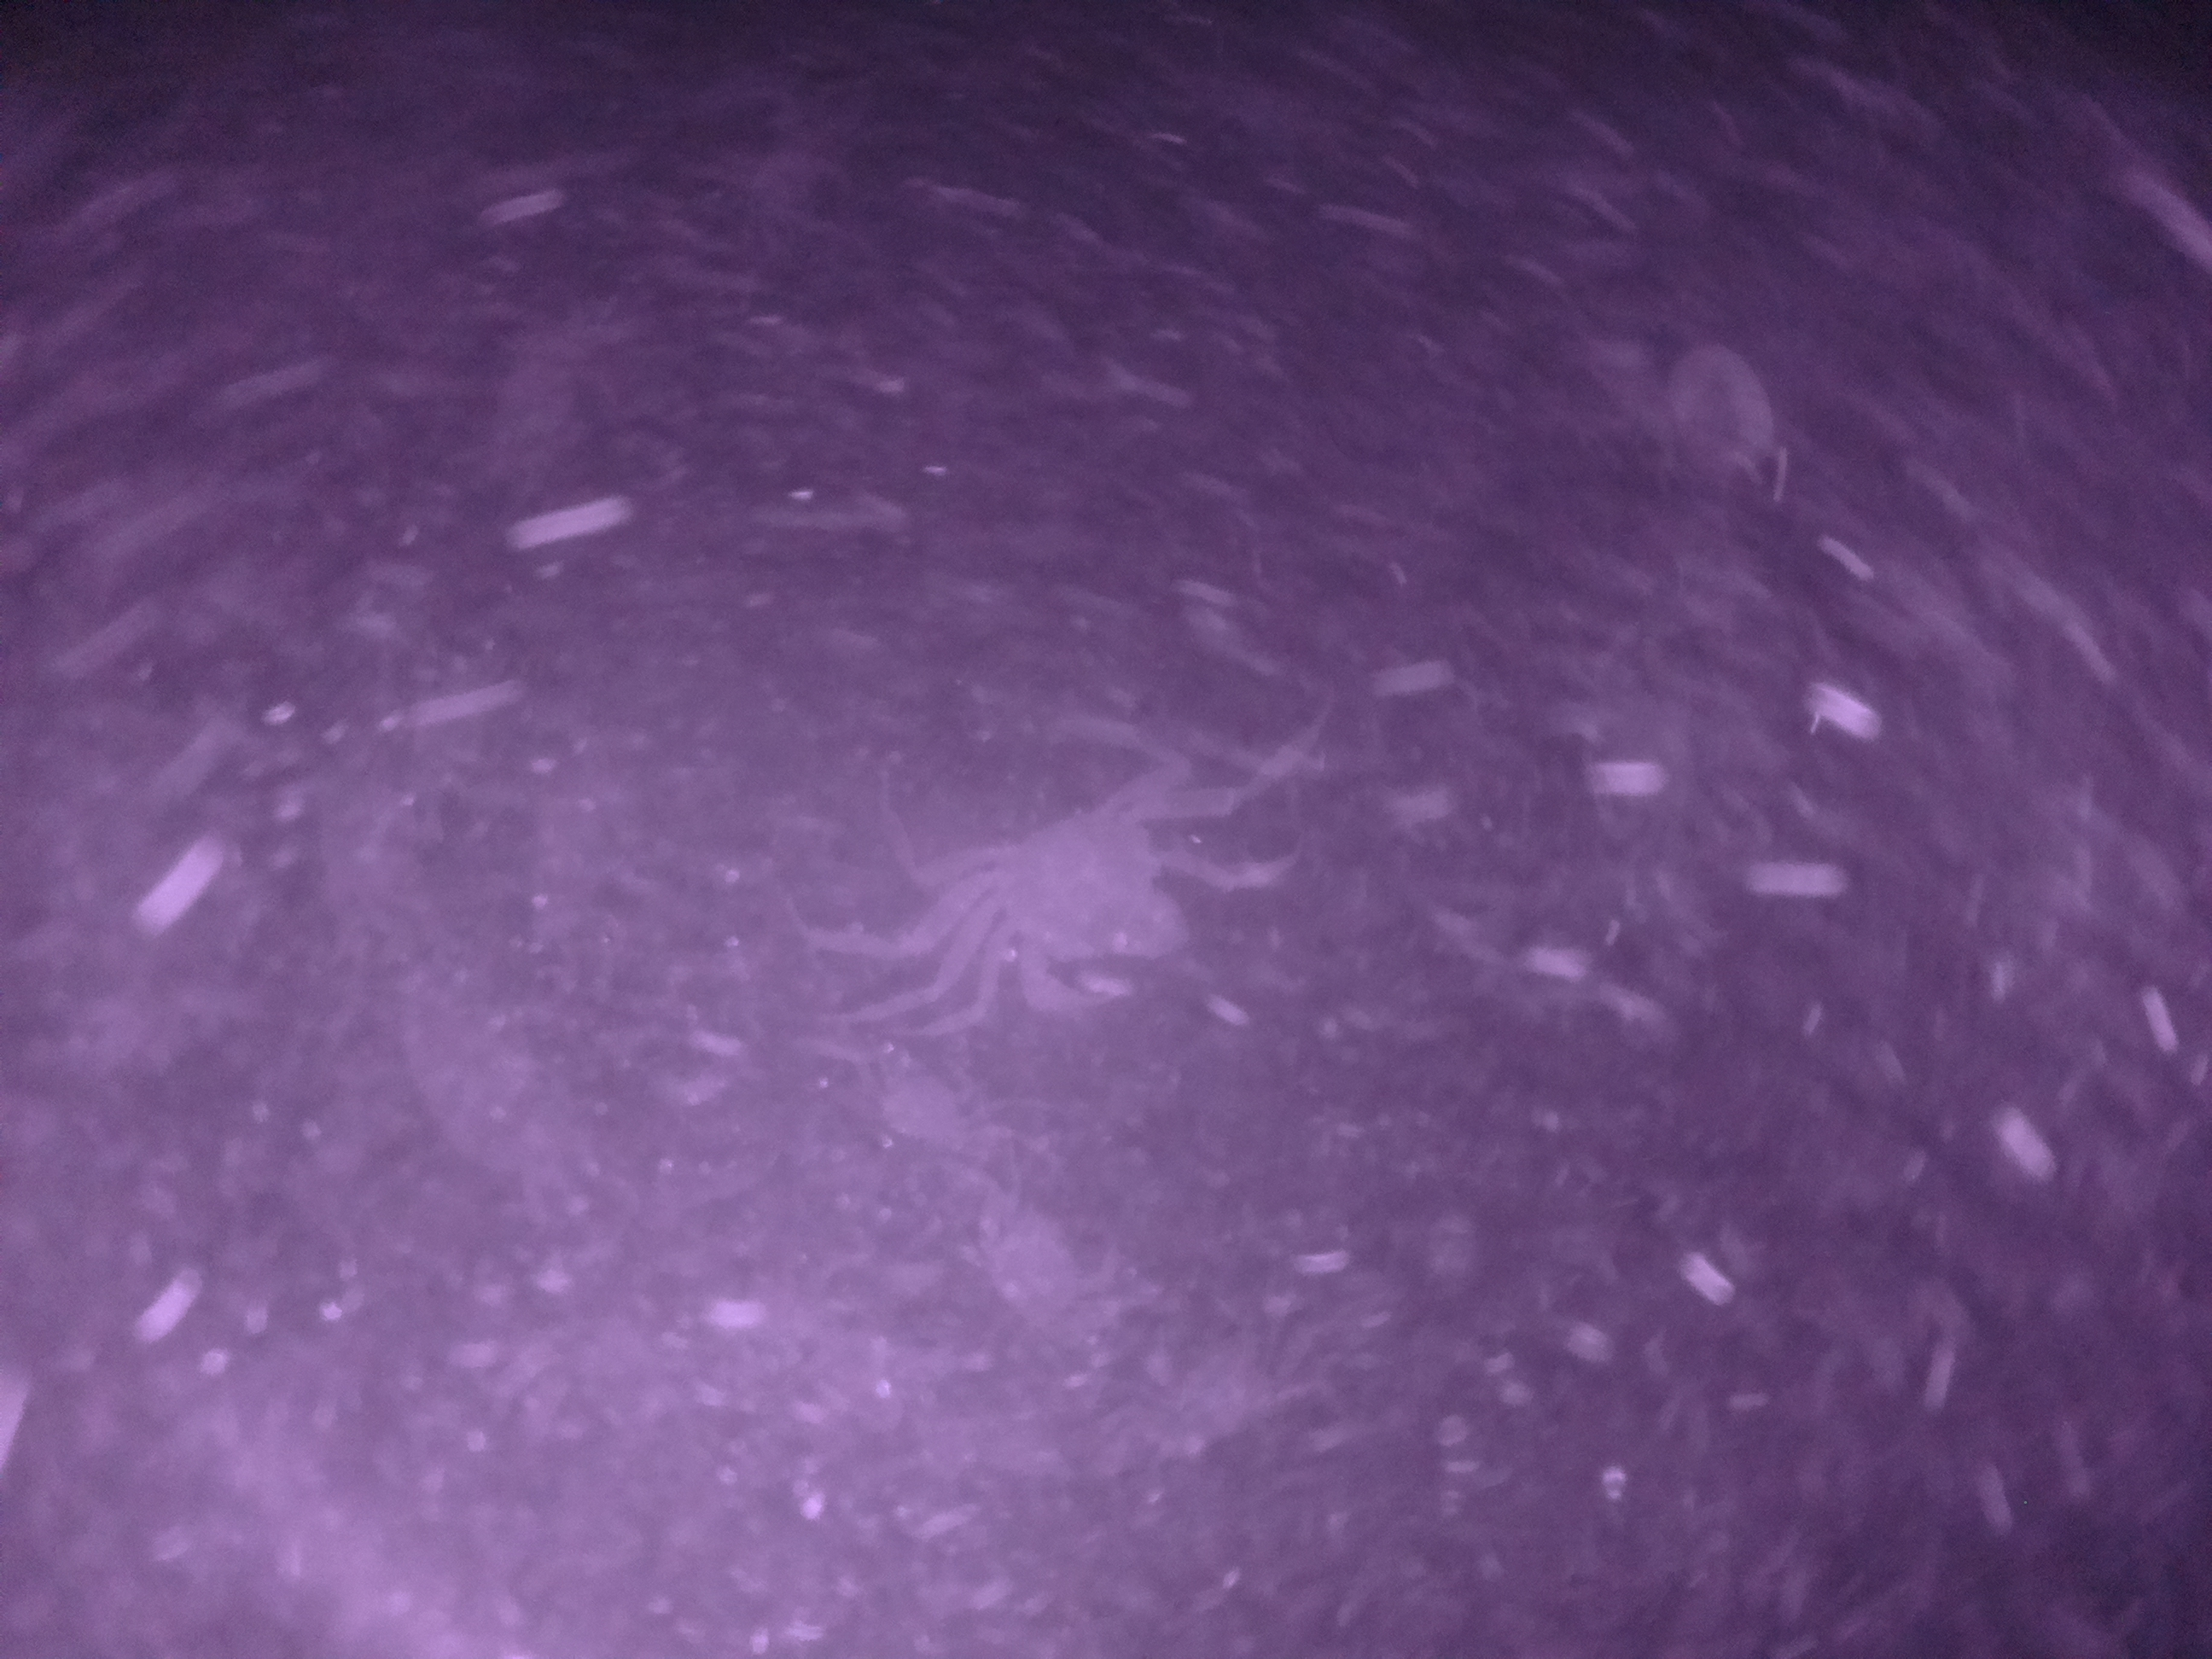Crab: (918, 782, 1223, 1042)
